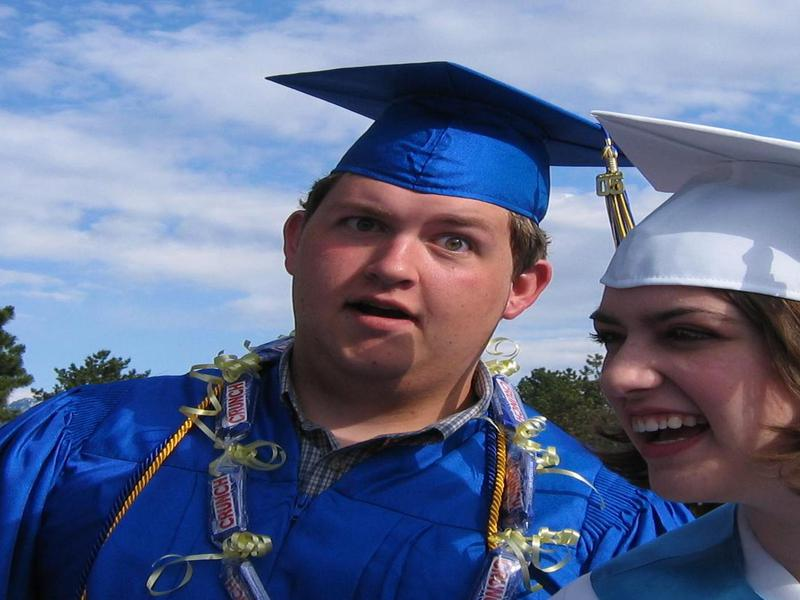person: (30, 62, 670, 600), (544, 103, 800, 600)
